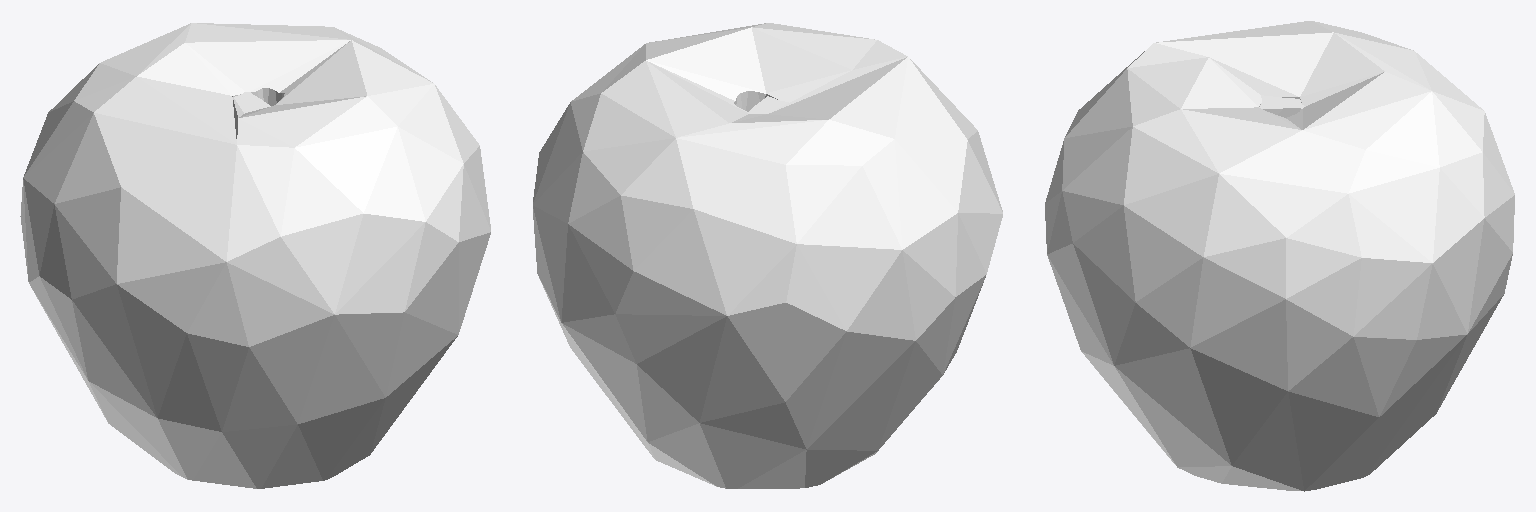
The robot description file, URDF, robot "apple.urdf":
<?xml version="0.0" ?>
<robot name="apple.urdf">
  <link name="baseLink">
    <contact>
      <lateral_friction value="0.3"/>
      <stiffness value="10000.0"/>
    </contact>
    <inertial>
      <origin rpy="0 0 0" xyz="0 0 0"/>
       <mass value="0.1"/>
       <inertia ixx="1" ixy="0" ixz="0" iyy="1" iyz="0" izz="1"/>
    </inertial>
    <visual>
      <origin rpy="0 0 0" xyz="0 0 0"/>
      <geometry>
            <mesh filename="apple.stl" scale="0.001 0.001 0.001"/>
      </geometry>
       <material name="white">
        <color rgba="1 1 1 1"/>
      </material>
    </visual>
    <collision>
      <origin rpy="0 0 0" xyz="0 0 0"/>
      <geometry>
	 	<mesh filename="apple.stl" scale="0.001 0.001 0.001"/>
      </geometry>
    </collision>
  </link>  
</robot>

--- Render facts (derived) ---
3 views of the same robot in one strip: view 1: azimuth 30°, elevation 25°; view 2: azimuth 150°, elevation 25°; view 3: azimuth 270°, elevation 25° (orthographic).
Robot: apple.urdf — 1 links, 0 joints (none); root link baseLink; default pose: every joint at zero.
Visible links, largest first — view 1: baseLink; view 2: baseLink; view 3: baseLink.
Link boxes in pixels (x1,y1,x2,y2): baseLink: (20, 23, 490, 488); baseLink: (533, 23, 1002, 488); baseLink: (1045, 21, 1514, 491).
Bounding box of the posed robot: 0.063 × 0.0628 × 0.0539 m (x, y, z).
1 mesh visuals loaded from 1 distinct referenced files (1 binary STL).